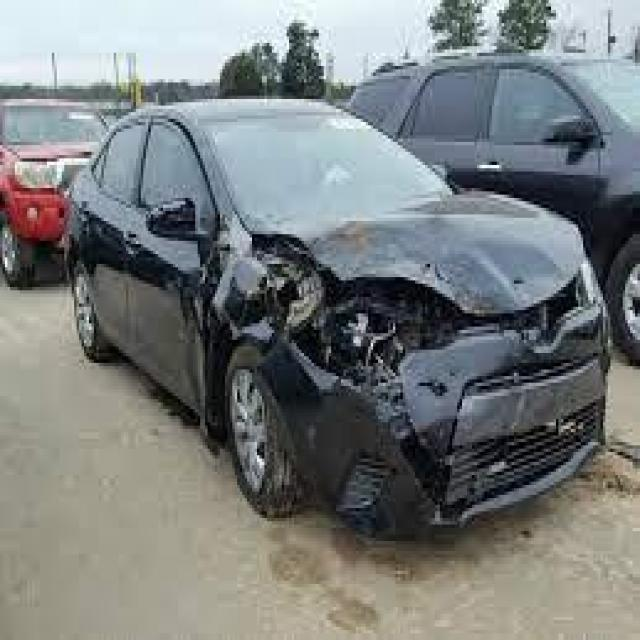damaged: (195, 211, 566, 383), (299, 376, 578, 528)
